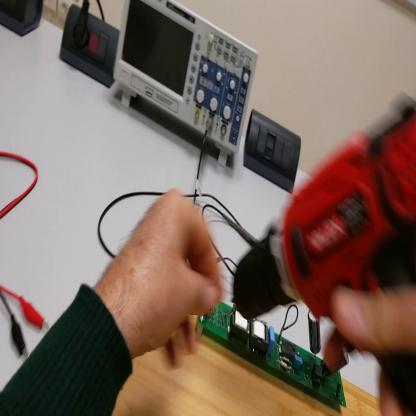electric screwdriver: (232, 93, 416, 416)
hand: (111, 187, 224, 367), (324, 270, 415, 412)
high voltage board: (193, 292, 350, 407)
oscilloscope: (112, 2, 260, 174)
oscilloscope probe tip: (217, 209, 261, 247)
socket: (61, 4, 121, 90), (2, 3, 45, 38)
working area: (111, 299, 382, 416)
